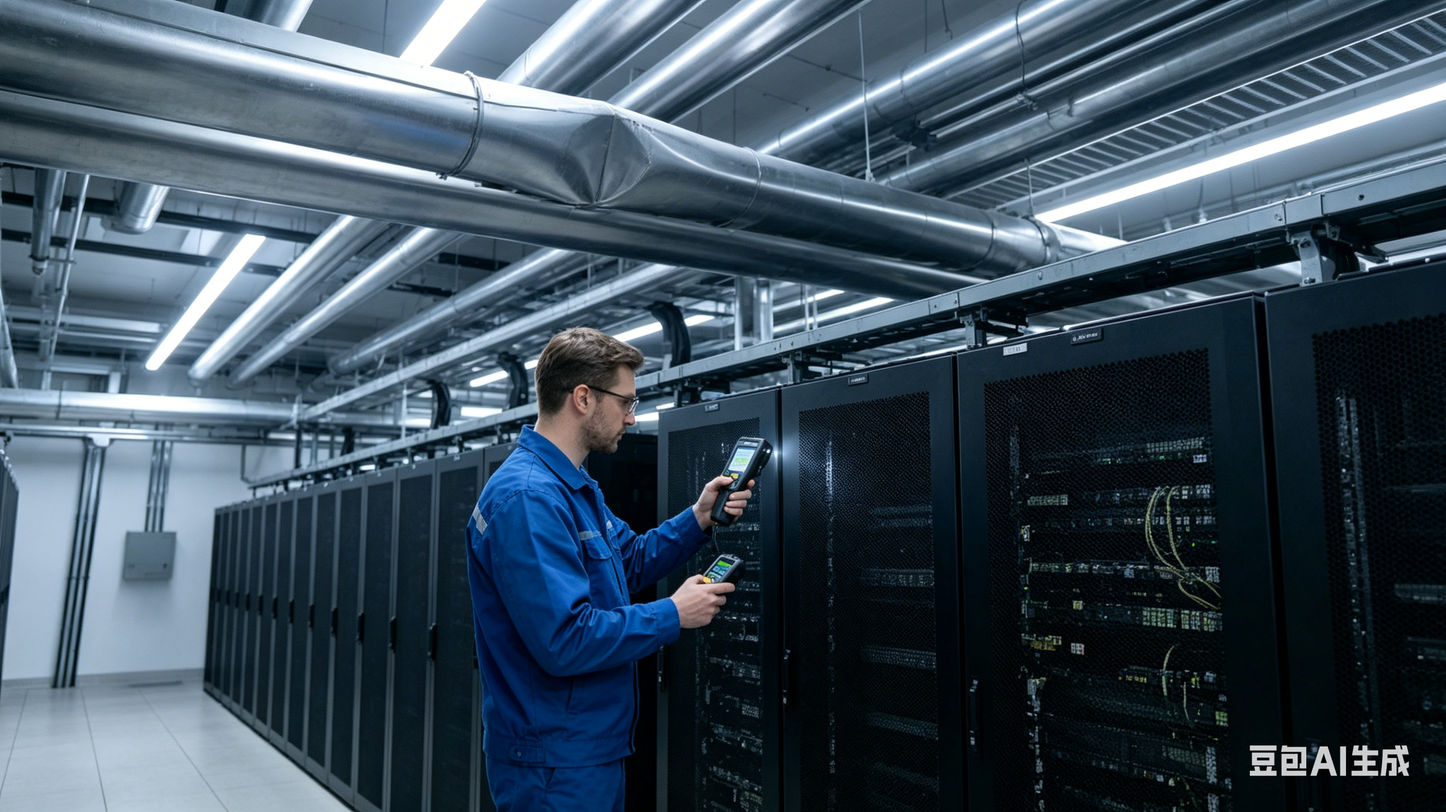Leakage: (560, 108, 665, 205)
